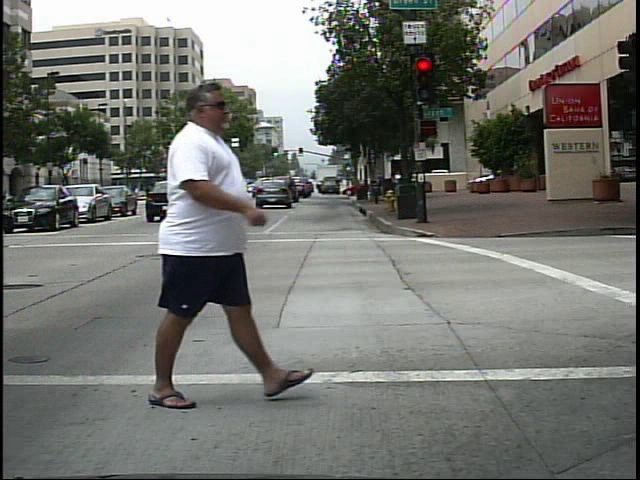person: (118, 78, 290, 413)
